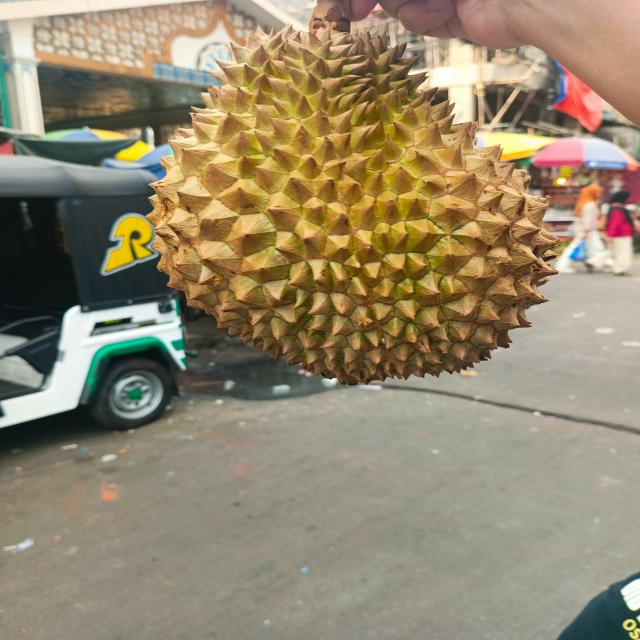mature: (143, 14, 556, 384)
